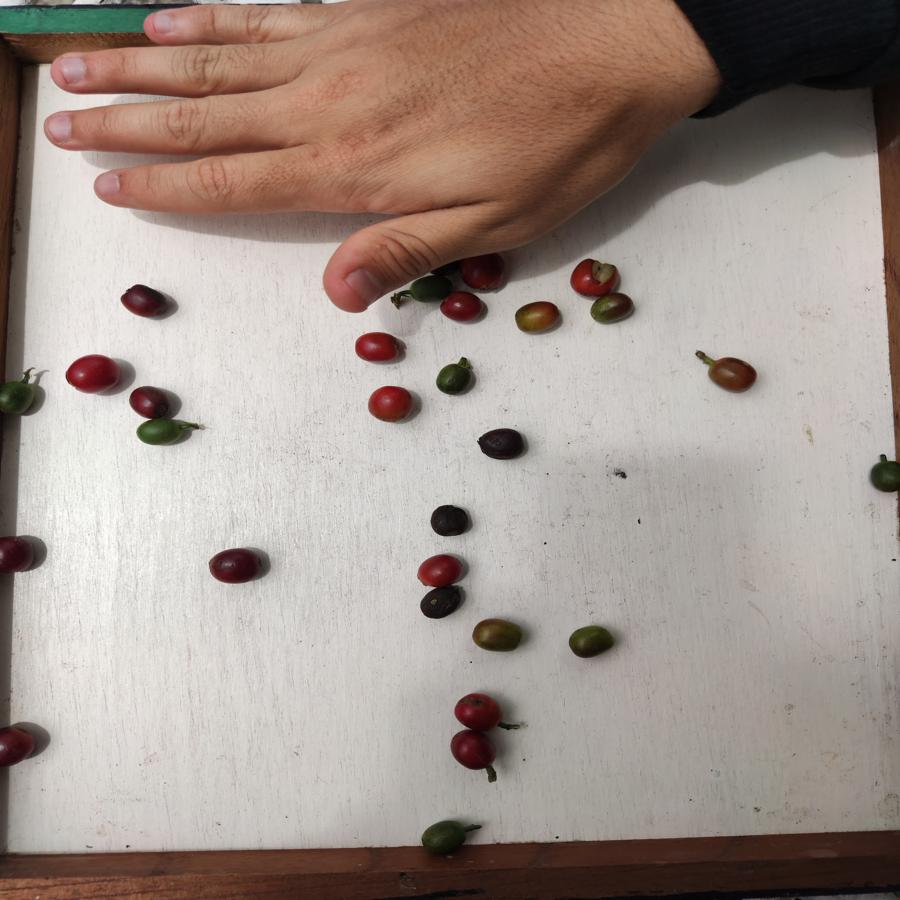Inmaduro: (421, 817, 471, 855), (1, 378, 36, 420), (135, 419, 186, 447), (434, 365, 473, 396), (870, 458, 900, 495), (406, 278, 455, 299)
Maduro: (364, 384, 419, 427), (64, 355, 120, 396), (569, 255, 619, 295), (455, 691, 506, 729), (353, 332, 409, 365), (412, 554, 469, 586), (440, 295, 491, 327)
Pinton: (703, 354, 763, 396), (472, 620, 525, 654), (567, 624, 613, 663), (511, 300, 559, 337), (593, 297, 630, 328)
Sobremaduro: (450, 728, 500, 775), (205, 548, 266, 586), (118, 283, 171, 324), (477, 429, 530, 461), (1, 723, 38, 768), (128, 386, 175, 418), (420, 587, 465, 620), (1, 534, 36, 575), (430, 501, 468, 537)
